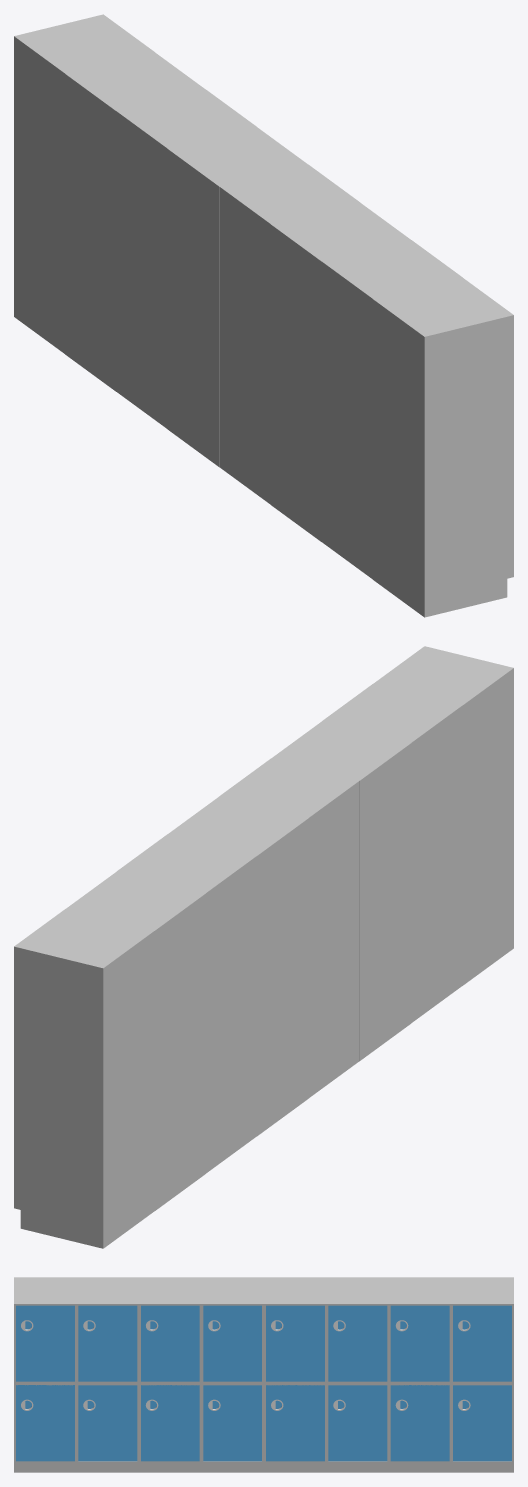
Rendered from Locker (2).fbx.
3 views of the same model, one above another, from view 1: azimuth 30°, elevation 25°; view 2: azimuth 150°, elevation 25°; view 3: azimuth 270°, elevation 25° (orthographic). The views are drawn at different scales.
Visible parts, largest first — view 1: Box004, Box004_5, Box004_2, Box004_4, Box004_3, Box004_7, Box004_6, Box004_1; view 2: Box004_6, Box004_3, Box004_7, Box004, Box004_5, Box004_2, Box004_1, Box004_4; view 3: Box008_1, Box009_1, Box008_4, Box009_4, Box008_7, Box009_7, Box008, Box009, Box008_2, Box009_2, Box008_3, Box009_3 (+12 smaller).
Part boxes in pixels (x1,y1,x2,y2): Box004: (373, 277, 513, 617); Box004_5: (167, 127, 307, 466); Box004_2: (219, 164, 359, 503); Box004_4: (116, 89, 256, 428); Box004_3: (270, 202, 410, 541); Box004_7: (65, 52, 205, 391); Box004_6: (14, 14, 154, 353); Box004_1: (322, 240, 462, 579); Box004_6: (14, 909, 154, 1248); Box004_3: (271, 721, 411, 1060); Box004_7: (66, 871, 206, 1210); Box004: (373, 646, 513, 985); Box004_5: (168, 796, 308, 1136); Box004_2: (219, 759, 359, 1097); Box004_1: (322, 684, 462, 1022); Box004_4: (117, 834, 256, 1172); Box008_1: (78, 1305, 137, 1381); Box009_1: (78, 1385, 137, 1461); Box008_4: (328, 1305, 387, 1381); Box009_4: (328, 1385, 387, 1461); Box008_7: (390, 1305, 449, 1381); Box009_7: (390, 1385, 449, 1461); Box008: (16, 1305, 74, 1381); Box009: (16, 1385, 74, 1461); Box008_2: (203, 1305, 261, 1381); Box009_2: (203, 1385, 261, 1461); Box008_3: (141, 1305, 199, 1381); Box009_3: (141, 1385, 199, 1461).
Size of the model in its own units: 50.11 by 150 by 398.
